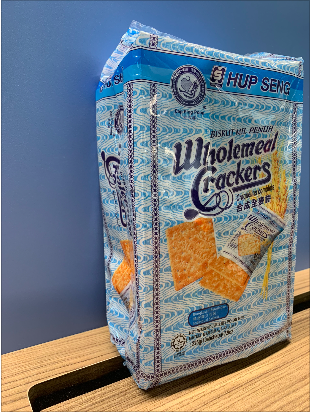Crackers_200-299g: (127, 77, 289, 347)
